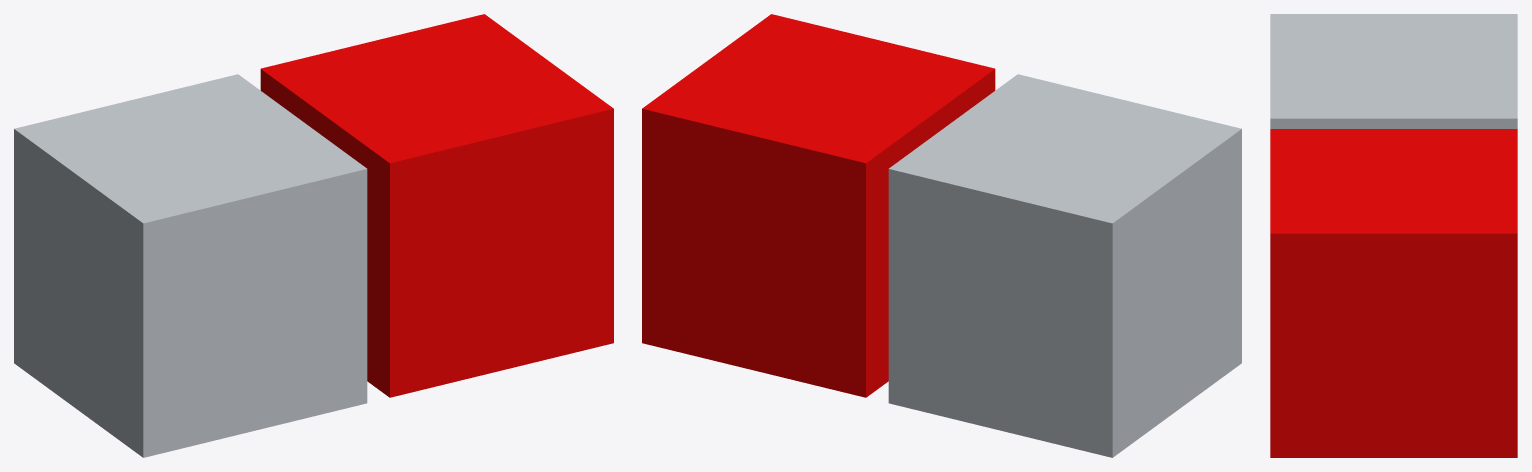
Rendered from anim.gltf.
3 views of the same model, side by side, from view 1: azimuth 30°, elevation 25°; view 2: azimuth 150°, elevation 25°; view 3: azimuth 270°, elevation 25° (orthographic). The views are drawn at different scales.
Visible parts, largest first — view 1: CUBELEFT, CUBERIGHT; view 2: CUBELEFT, CUBERIGHT; view 3: CUBERIGHT, CUBELEFT.
Part boxes in pixels (x1,y1,x2,y2): CUBELEFT: (14,74,367,457); CUBERIGHT: (260,14,613,397); CUBELEFT: (888,74,1241,457); CUBERIGHT: (642,14,995,397); CUBERIGHT: (1270,129,1517,457); CUBELEFT: (1270,14,1517,128).
Bounding box in the file's own units: 82.68 × 39.37 × 39.37.
